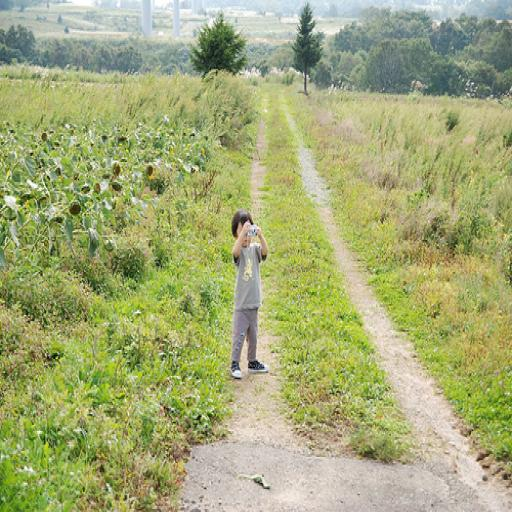person: (227, 211, 270, 380)
